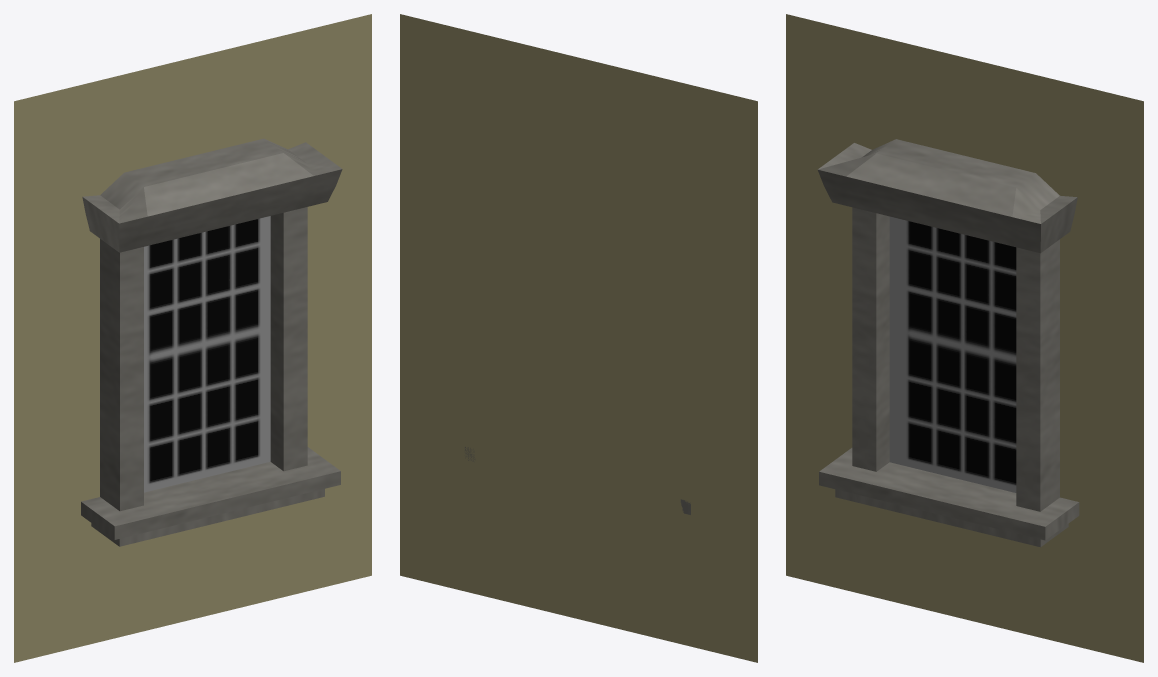
Rendered from Small_Window.fbx.
3 renders of one model, left to right at view 1: azimuth 30°, elevation 25°; view 2: azimuth 150°, elevation 25°; view 3: azimuth 330°, elevation 25°, orthographic.
Visible parts, largest first — view 1: Wood_WINDOW_TWO_BY_THREE; view 2: Wood_WINDOW_TWO_BY_THREE; view 3: Wood_WINDOW_TWO_BY_THREE.
Part boxes in pixels (x1=…): Wood_WINDOW_TWO_BY_THREE: x1=14, y1=14, x2=371, y2=662; Wood_WINDOW_TWO_BY_THREE: x1=400, y1=14, x2=757, y2=662; Wood_WINDOW_TWO_BY_THREE: x1=786, y1=14, x2=1143, y2=662.
Bounding box in the file's own units: 2 × 3 × 0.3564.
